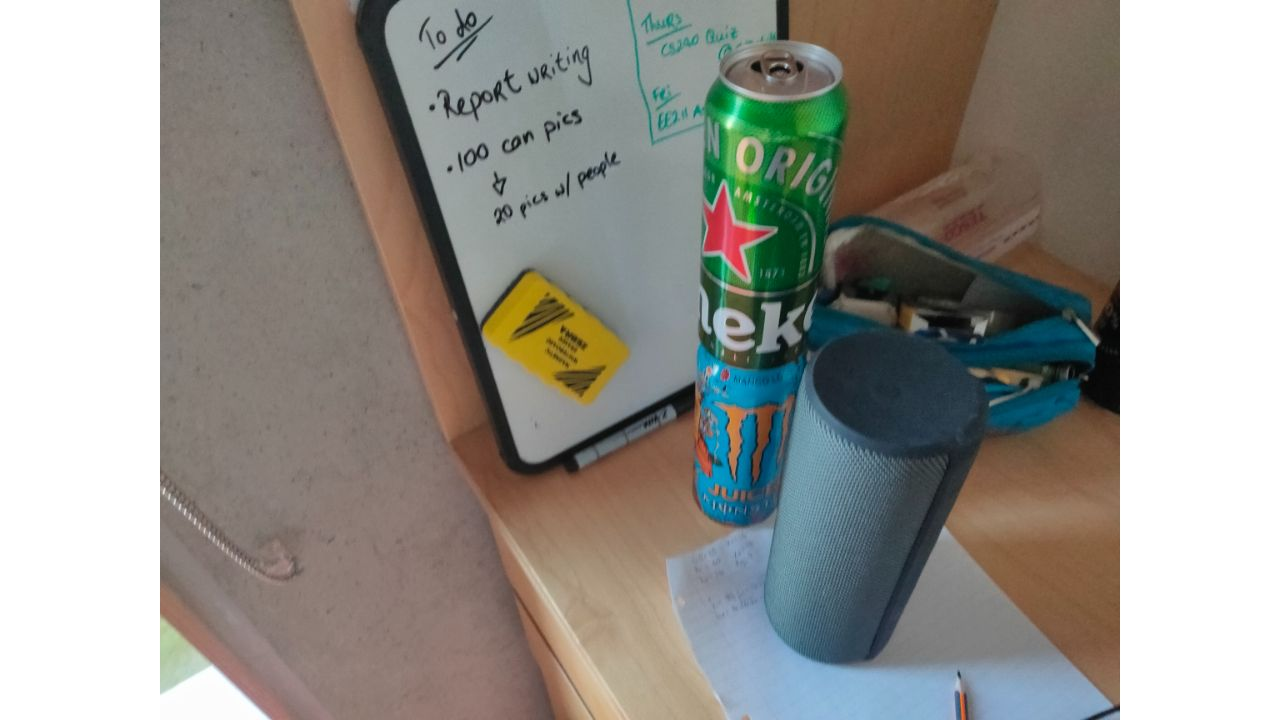Can: (700, 41, 847, 366), (689, 339, 805, 526)
